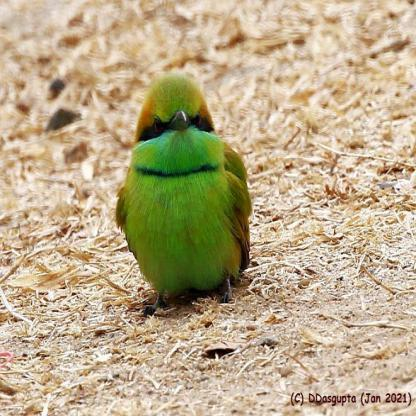Burung: (116, 76, 252, 314)
